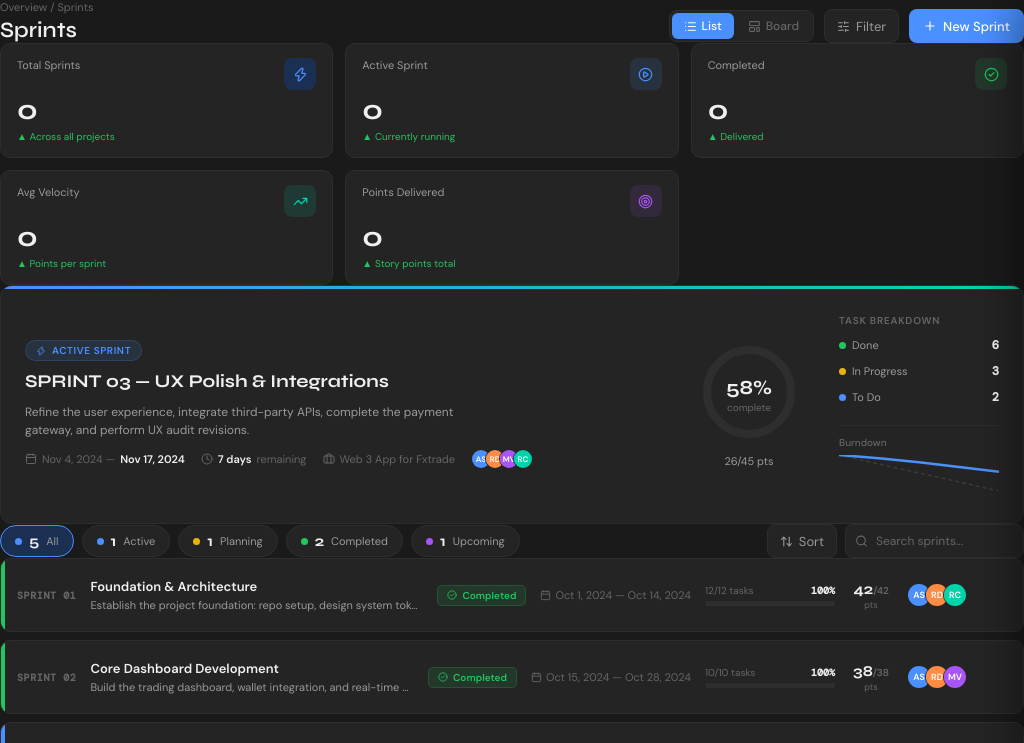
Test: SprintsPage › New Sprint button opens NewSprintModal, and creating one shows it in the list
Click the button "New Sprint": (967, 26) [909, 9, 1023, 43]
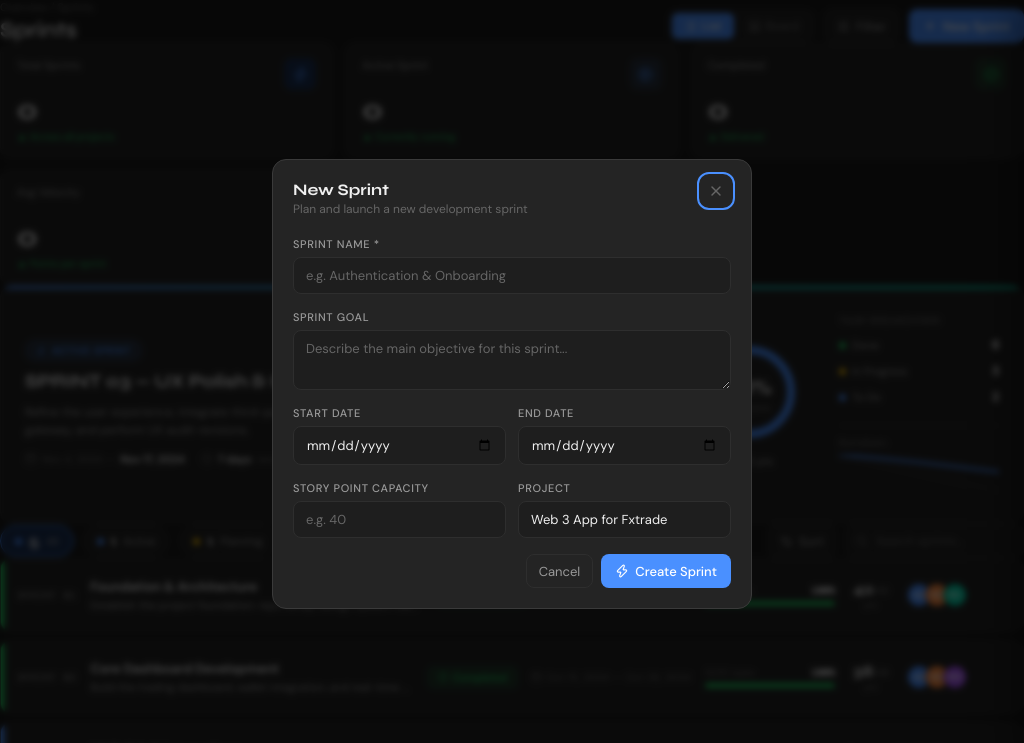
In the field labelled "Sprint Name *": (512, 276) [293, 257, 731, 294], type "Launch Prep"
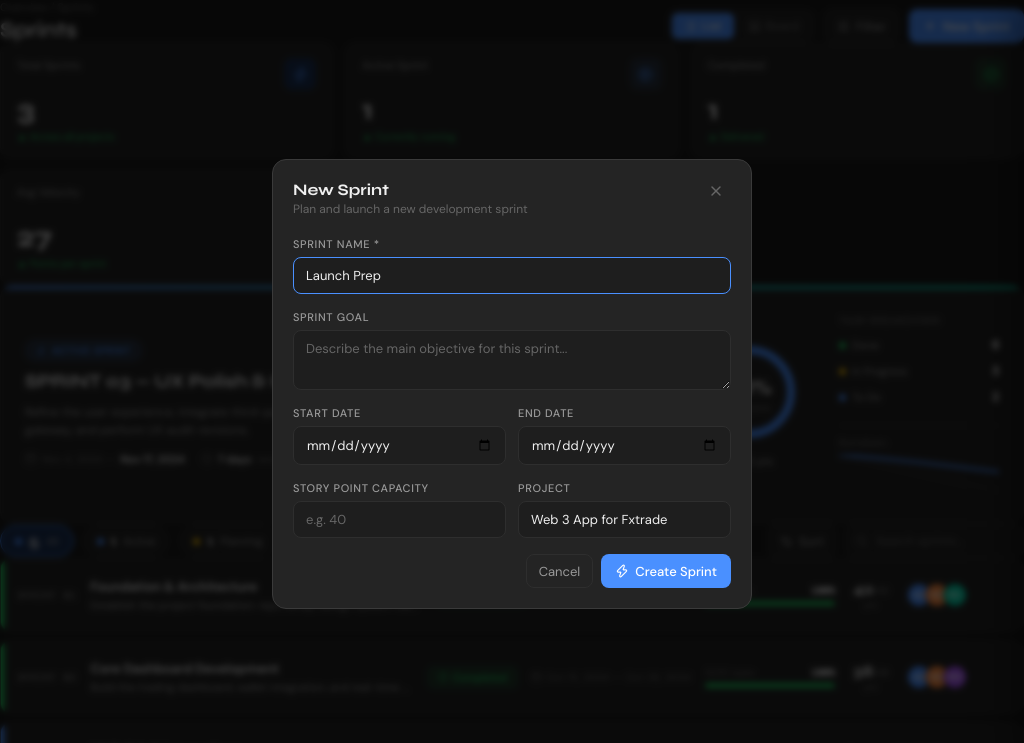
Click the button "Create Sprint": (666, 571) [601, 554, 731, 588]
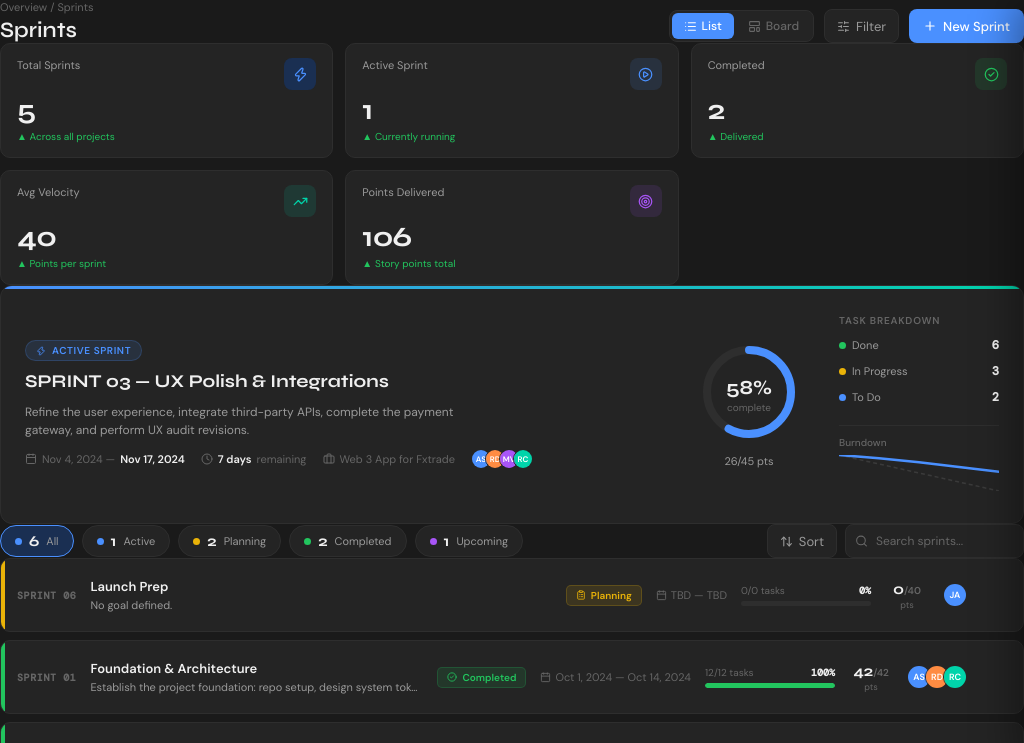
Expected: the text "Launch Prep" is shown, [90, 578, 168, 595]
